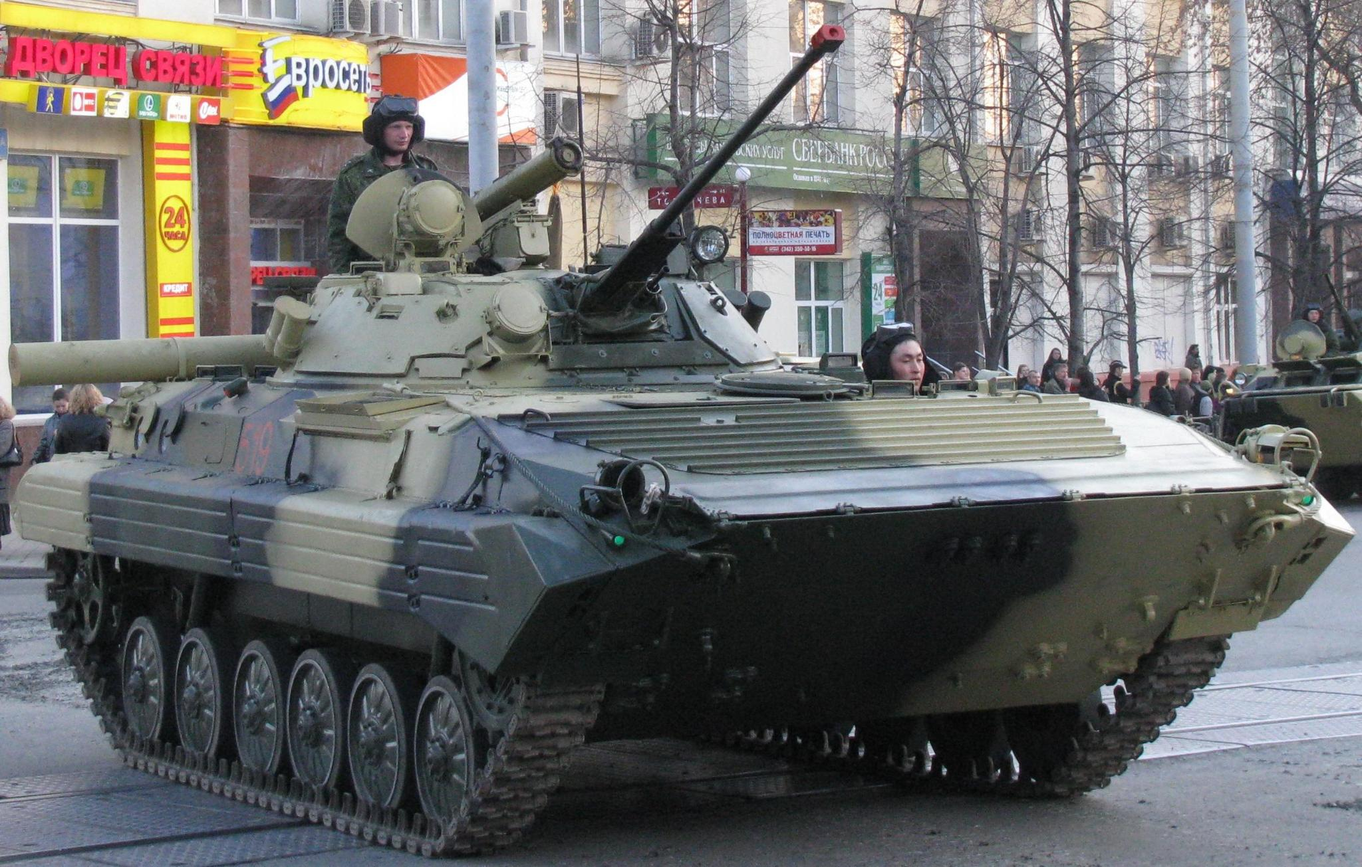tank: (11, 40, 1362, 863), (1232, 304, 1362, 495)
